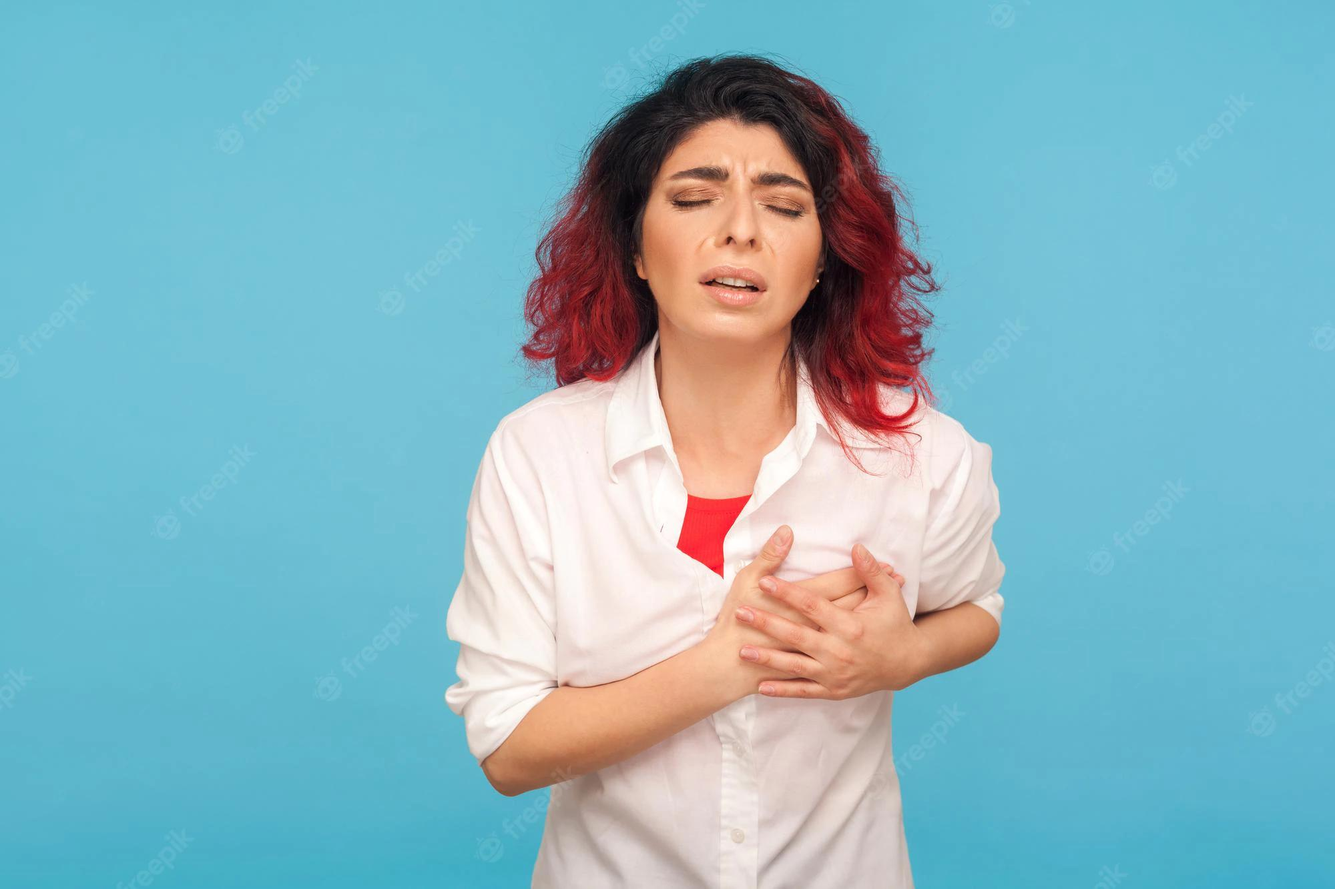pain: (655, 163, 829, 228)
